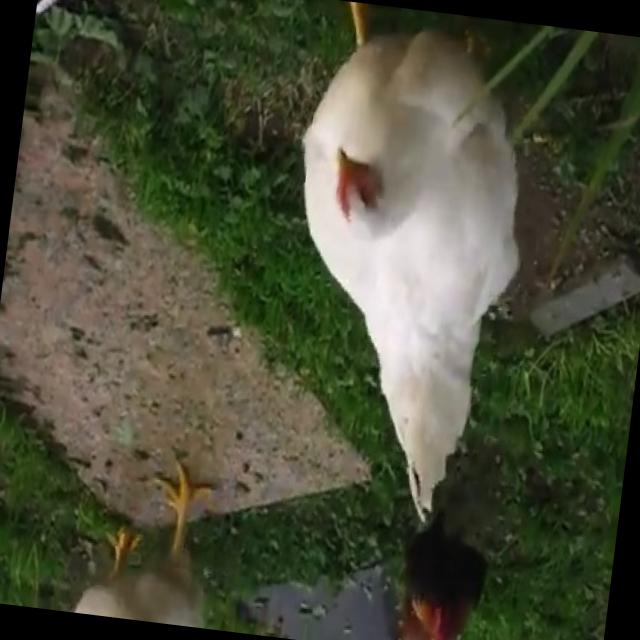running: (262, 0, 559, 542)
